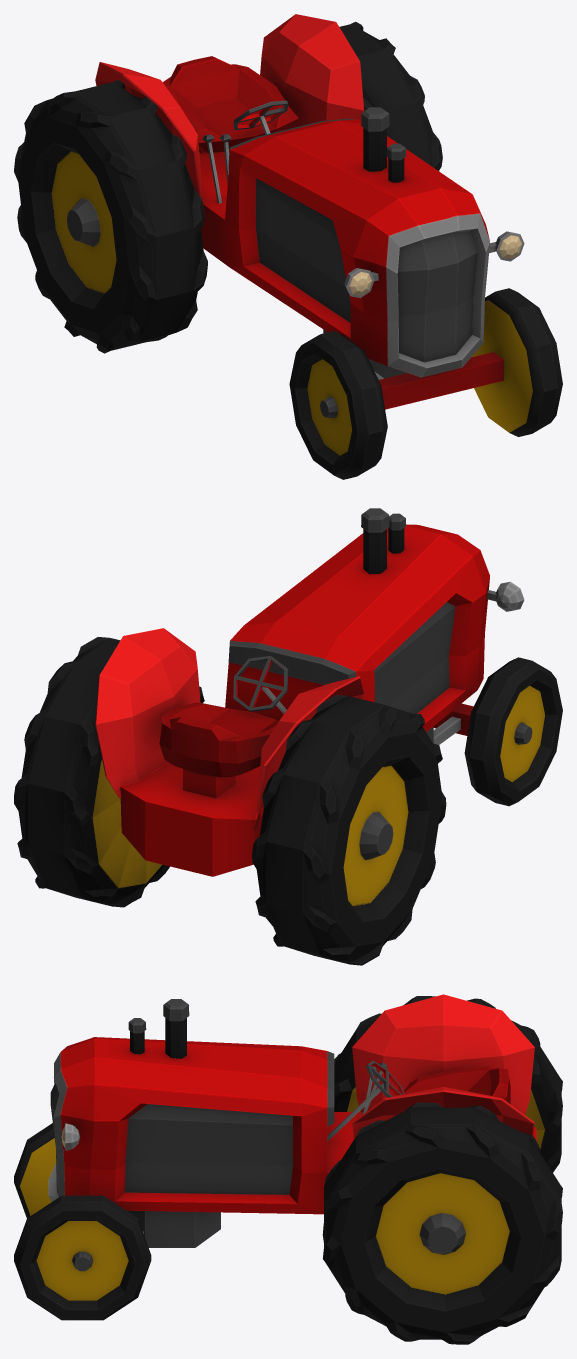
The model's file is Tractor(1).obj.
3 views of the same model, one above another, from view 1: azimuth 30°, elevation 25°; view 2: azimuth 150°, elevation 25°; view 3: azimuth 270°, elevation 25° (orthographic). The views are drawn at different scales.
Parts seen in each view (by area): view 1: Tractor_mesh; view 2: Tractor_mesh; view 3: Tractor_mesh.
Boxes of the visible parts, <box> form: Tractor_mesh: <box>14,14,562,479</box>; Tractor_mesh: <box>14,508,562,965</box>; Tractor_mesh: <box>14,994,562,1344</box>.
Size of the model in its own units: 9.35 by 8.62 by 15.49.
Materials: 1 (1 with a texture image).
